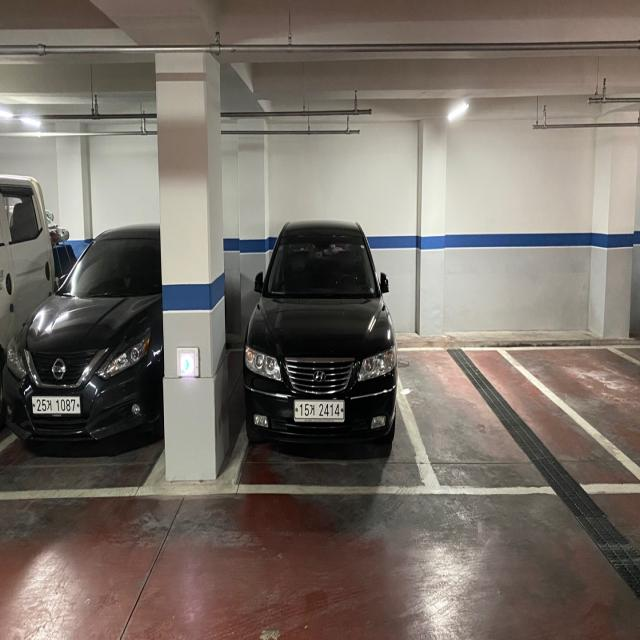empty: (384, 343, 640, 496)
occupied: (245, 215, 400, 460), (18, 224, 163, 447)
